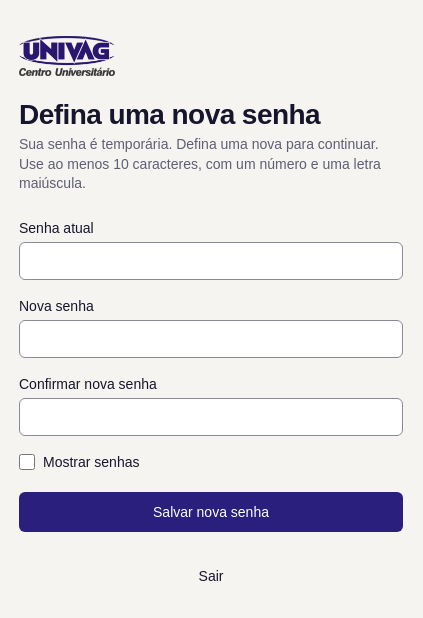
Test case: TrocarSenhaPage › Valida_confirmacao_e_regras_antes_de_enviar
Type "x" into the password field labelled "Senha atual" at (211, 261), box [19,242,403,280]
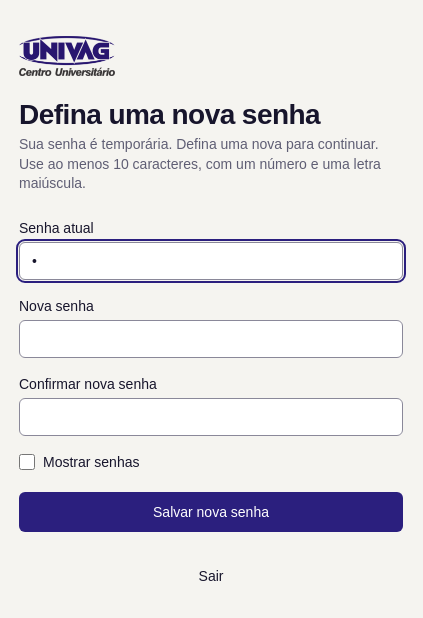
Type "curta" into the password field labelled "Nova senha" at (211, 339), box [19,320,403,358]
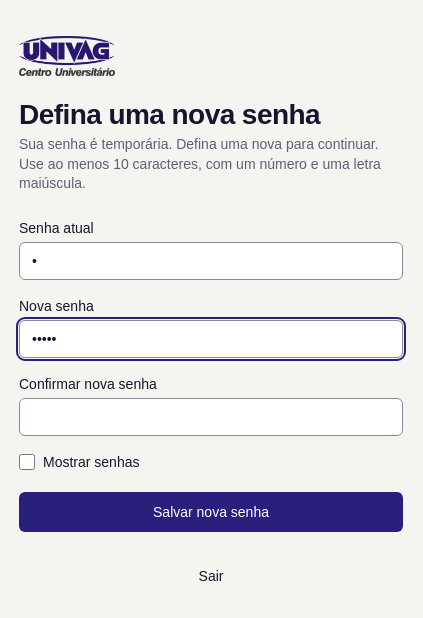
Type "outra" into the password field labelled "Confirmar nova senha" at (211, 417), box [19,398,403,436]
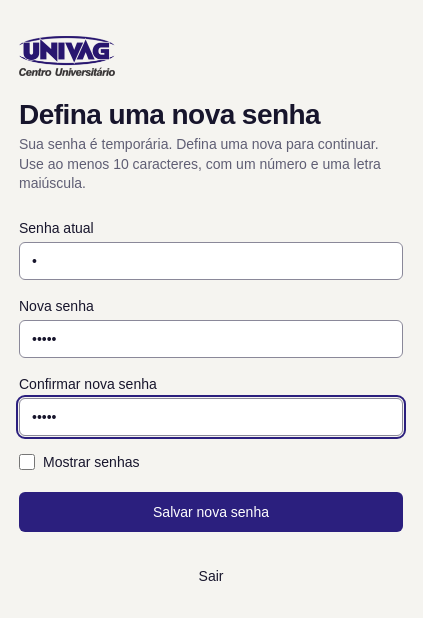
Click the button "Salvar nova senha" at (211, 512), box [19,492,403,532]
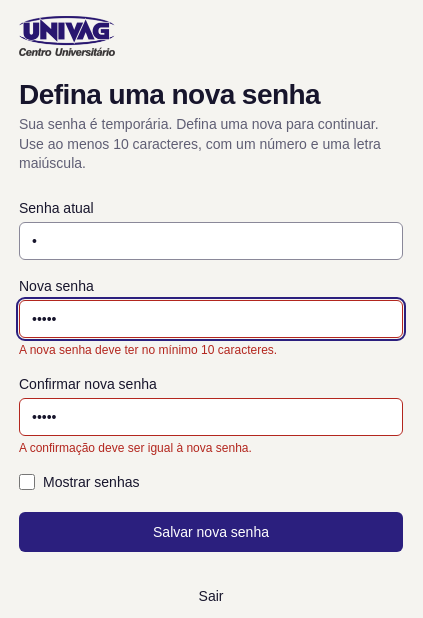
Expected: the text "A nova senha deve ter no mínimo 10 caracteres." is shown, [19,343,277,357]
Expected: the text "A confirmação deve ser igual à nova senha." is shown, [19,441,252,455]
